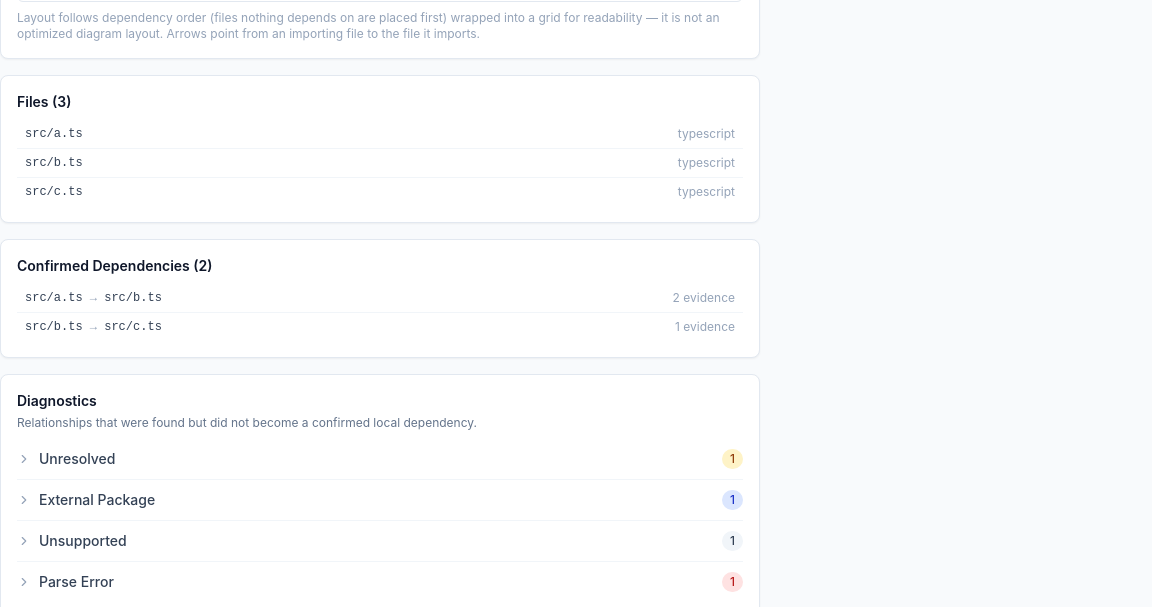
Test: ProjectGraphTab › shows unresolved/external/unsupported/parse-error diagnostics with counts and expandable detail
The width and height of the screenshot is (1152, 607).
(page scrolled)
Expected: the heading "Diagnostics" is shown, [17,392,97,409]
Step 1. Click the text "Unresolved" → (66,459), box [17,449,115,469]
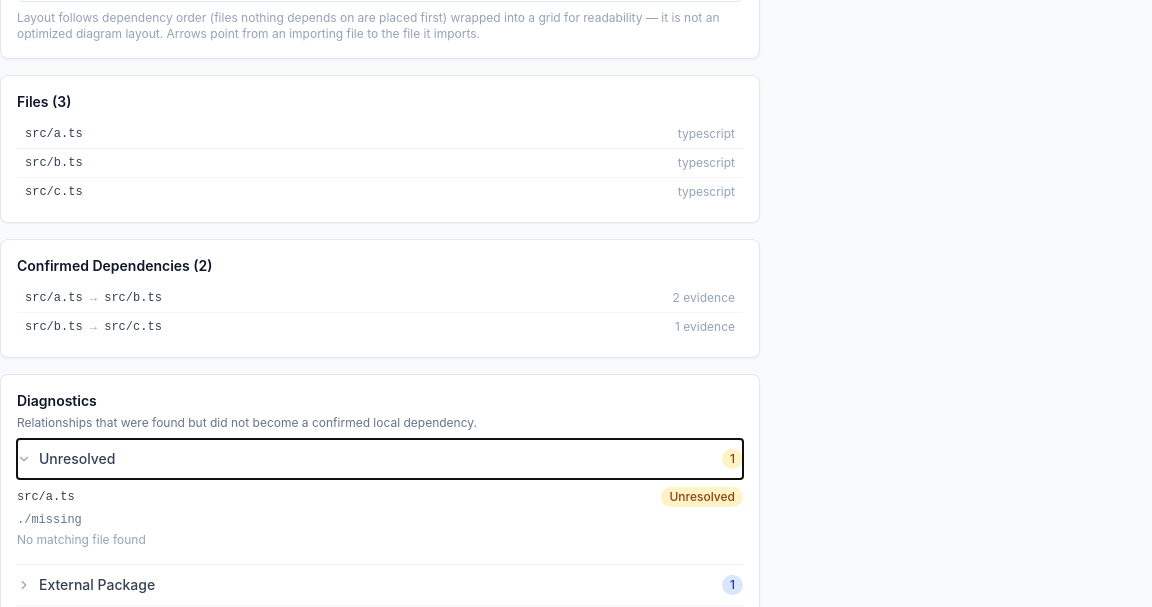
Now the text "./missing" is shown, box [17,513,82,527]
Step 2. Click the text "External Package" → (86,585), box [17,575,155,595]
(page scrolled)
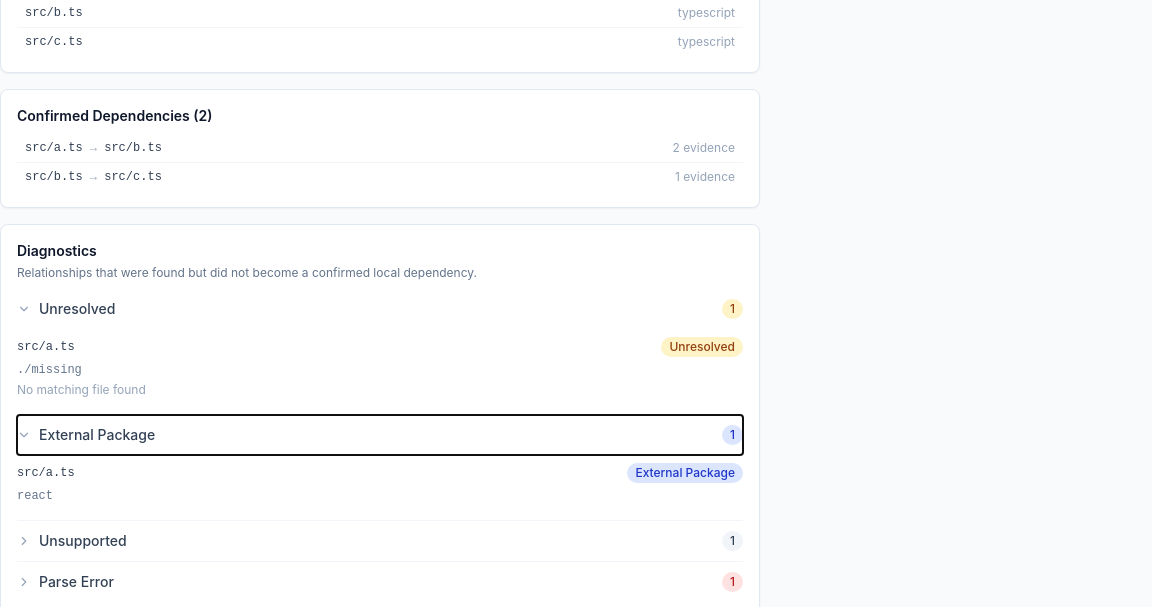
Now the text "react" is shown, box [17,489,53,503]
Step 3. Click the text "Unsupported" → (72,541), box [17,531,127,551]
(page scrolled)
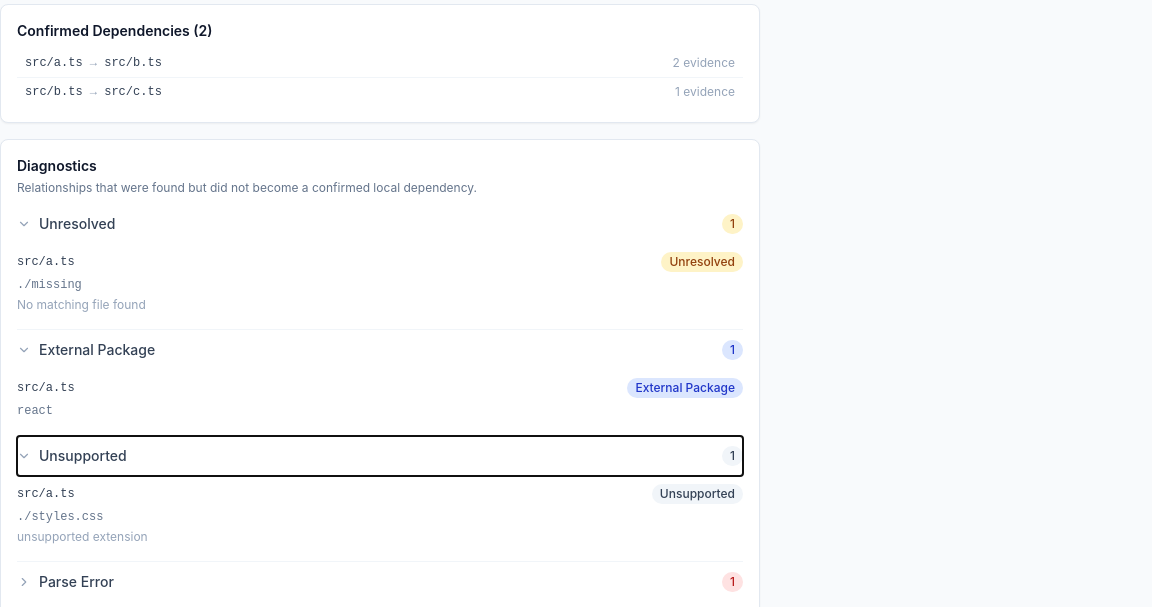
Now the text "./styles.css" is shown, box [17,510,103,524]
Step 4. Click the text "Parse Error" → (65,582), box [17,572,114,592]
(page scrolled)
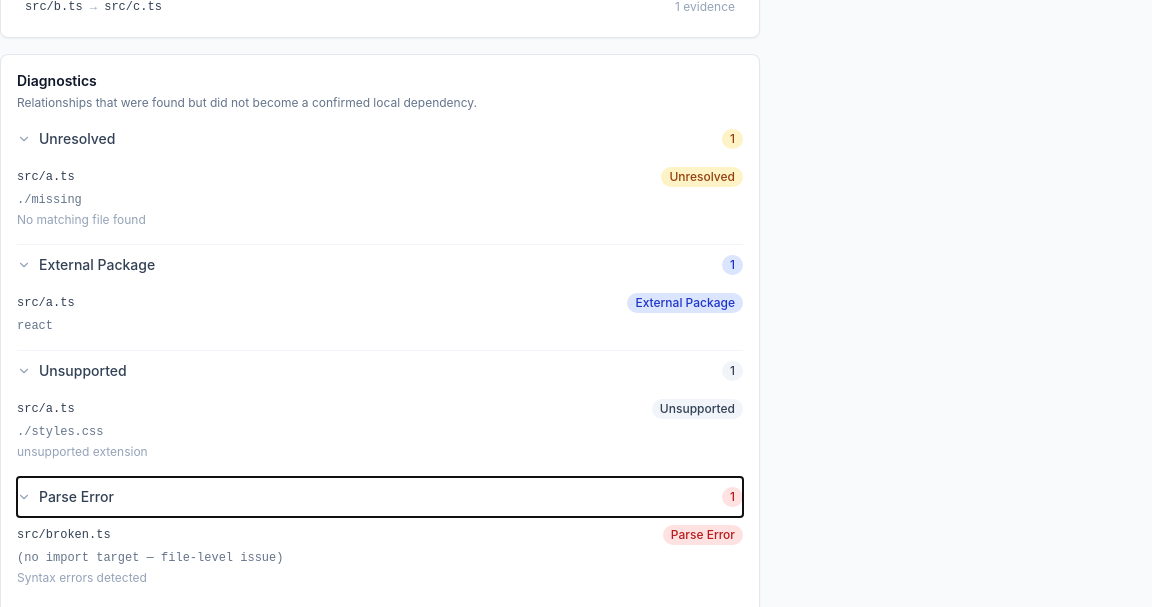
Now the text "Syntax errors detected" is shown, box [17,570,147,585]
